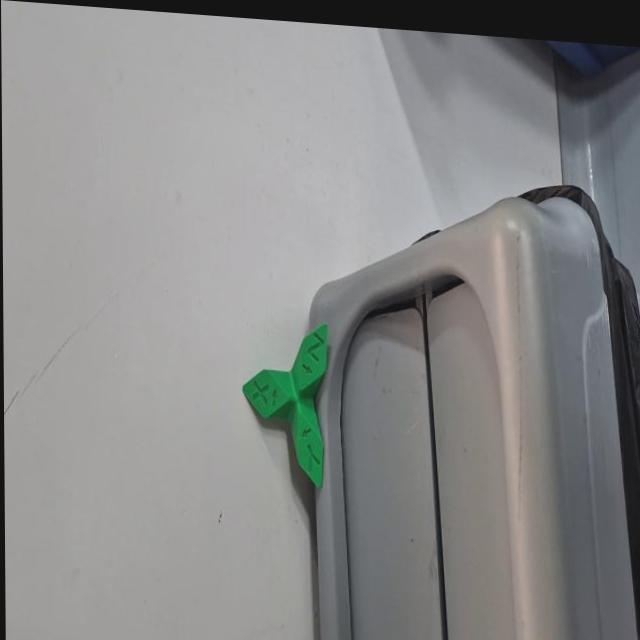eje: (240, 315, 329, 493)
